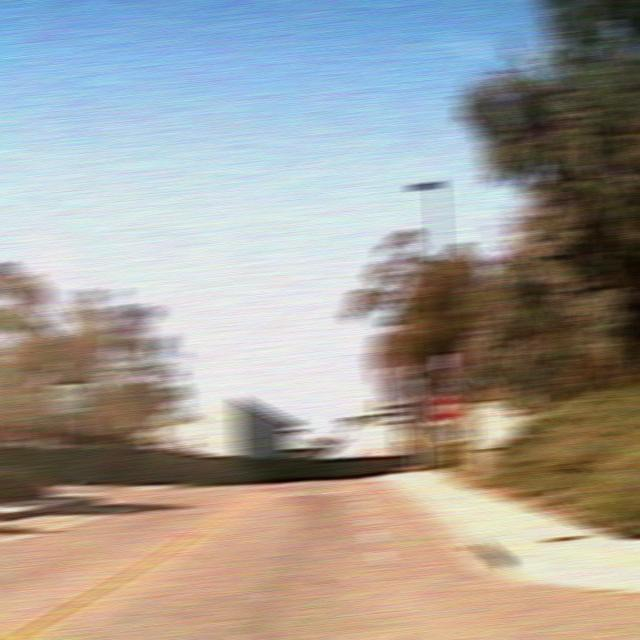stop: (432, 393, 461, 423)
